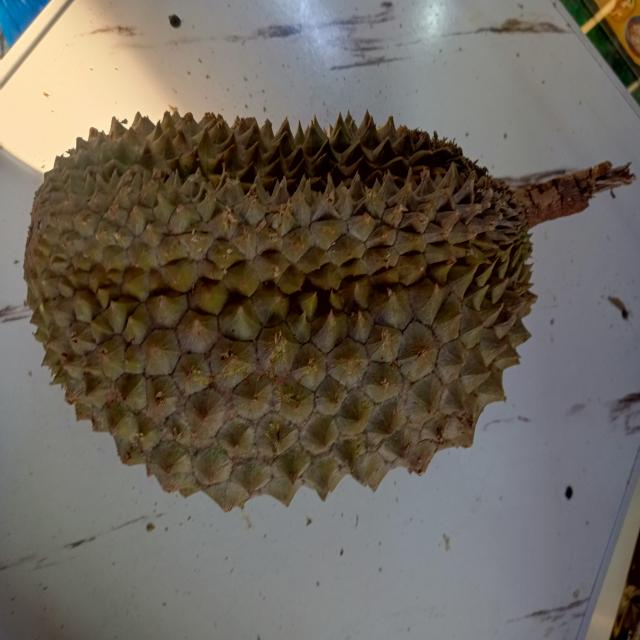mature: (22, 100, 534, 512)
